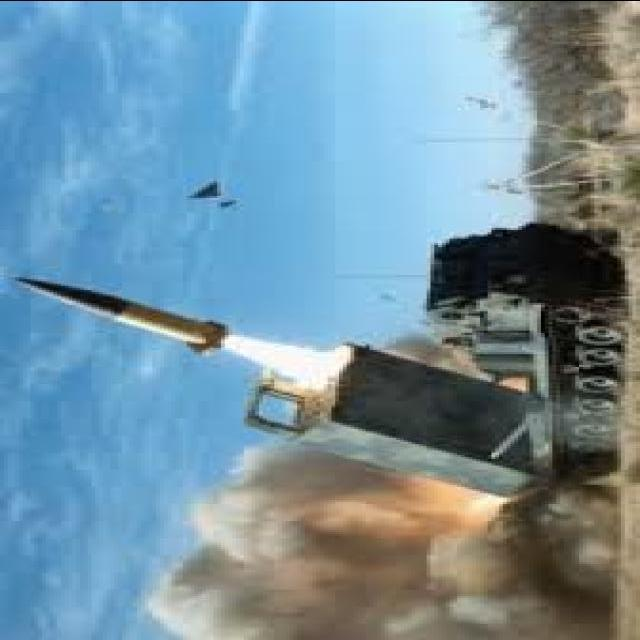Missile: (2, 268, 245, 355)
